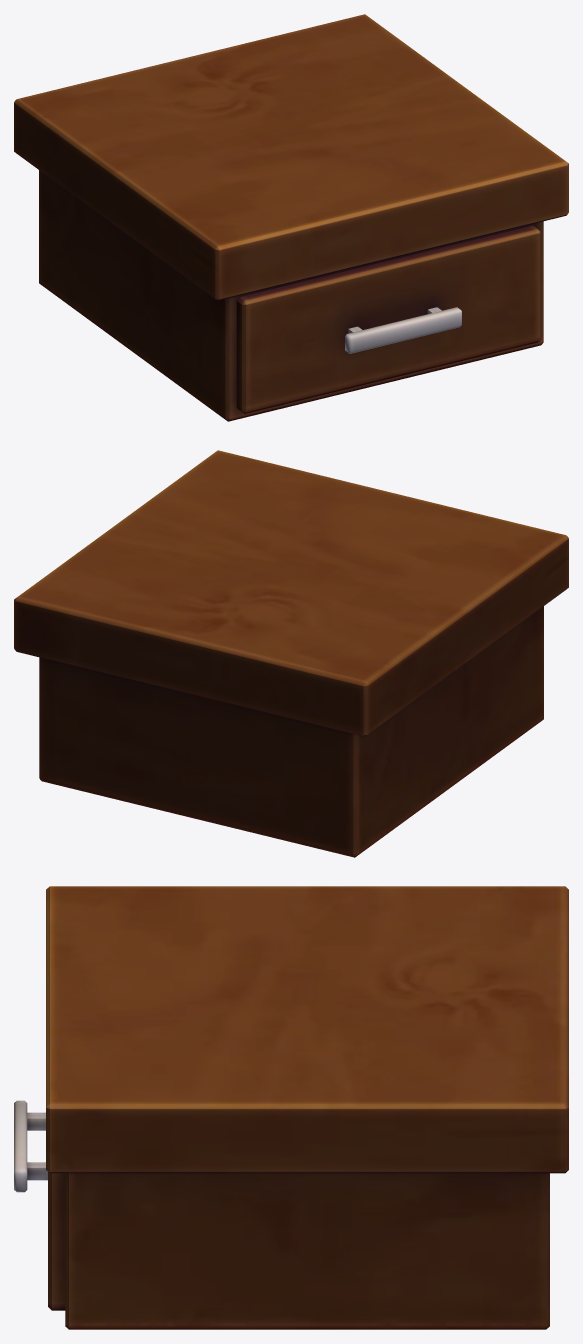
File: drawerTable.glb
3 renders of one model, top to bottom at view 1: azimuth 30°, elevation 25°; view 2: azimuth 150°, elevation 25°; view 3: azimuth 270°, elevation 25°, orthographic. The views are drawn at different scales.
Visible parts, largest first — view 1: Object_3; view 2: Object_3; view 3: Object_3.
Boxes of the visible parts, <box> form: Object_3: <box>14,14,568,421</box>; Object_3: <box>14,450,568,857</box>; Object_3: <box>14,886,568,1329</box>.
Bounding box in the file's own units: 2 × 0.9995 × 2.12.
Materials: 1 (1 with a texture image).
